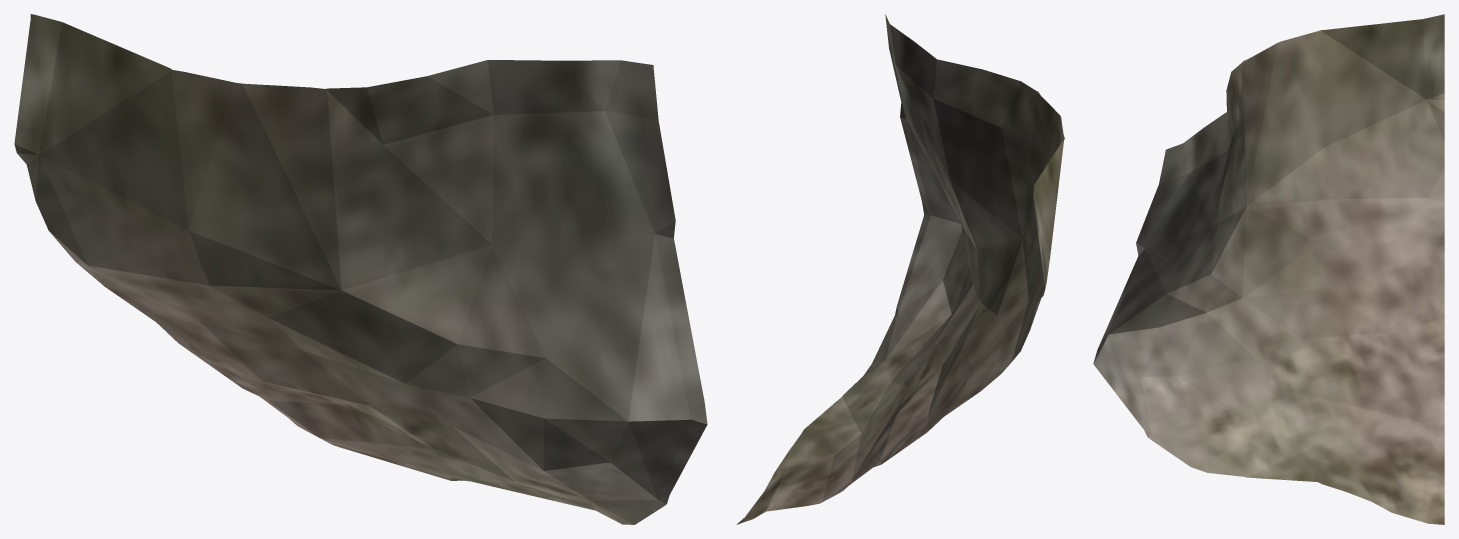
3 views of the same model, side by side, from view 1: azimuth 30°, elevation 25°; view 2: azimuth 150°, elevation 25°; view 3: azimuth 270°, elevation 25° (orthographic). The views are drawn at different scales.
Size of the model in its own units: 0.6533 by 0.8109 by 0.6882.
1 material, 1 textured.
